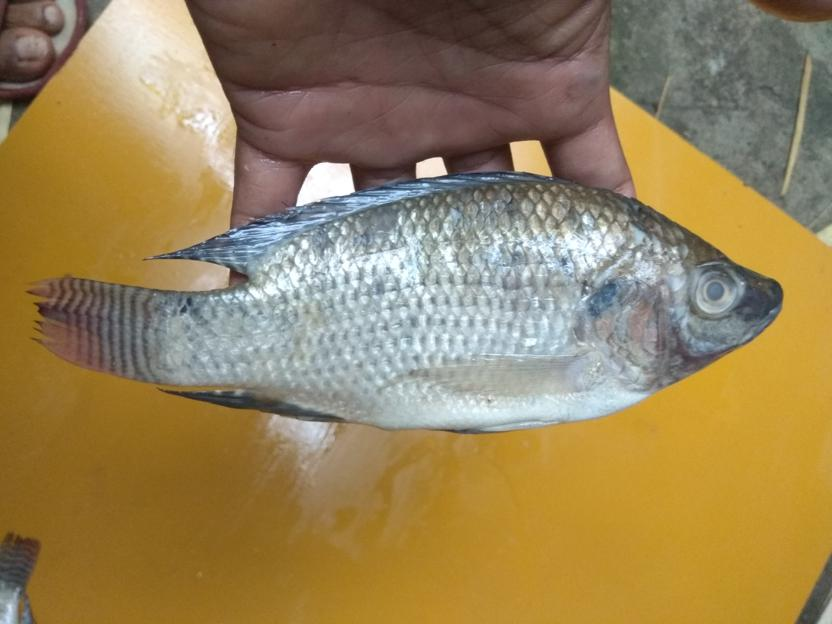Fish head: (581, 227, 784, 399)
Fish tail: (21, 274, 187, 387)
